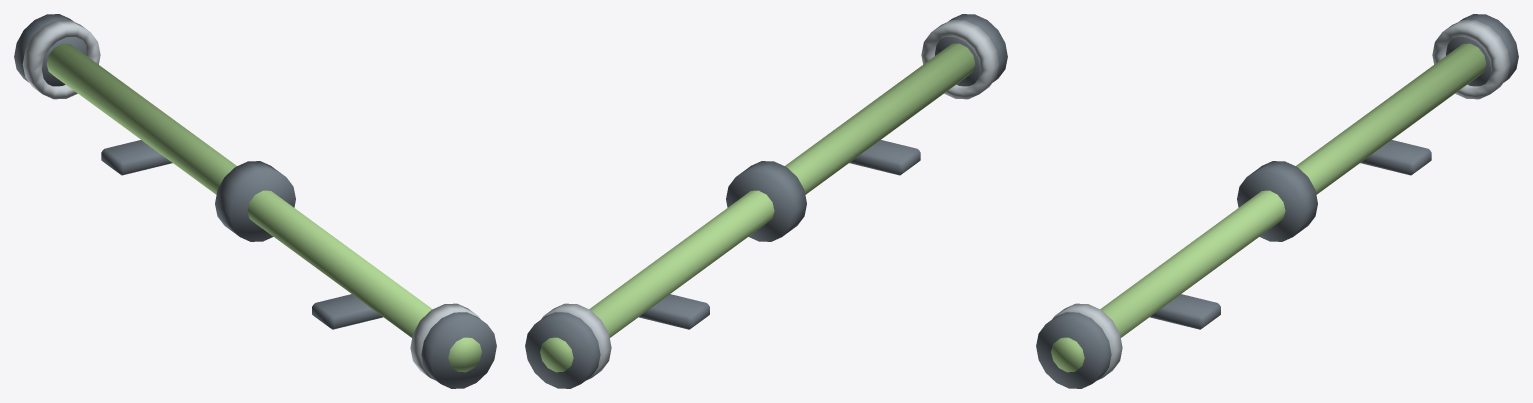
The model's file is pipe_straight_standard.glb.
3 renders of one model, left to right at view 1: azimuth 30°, elevation 25°; view 2: azimuth 150°, elevation 25°; view 3: azimuth 330°, elevation 25°, orthographic.
Visible parts, largest first — view 1: Conduit_green, Coupler_dark, Flange_steel, SupportBracket_dark; view 2: Conduit_green, Coupler_dark, Flange_steel, SupportBracket_dark; view 3: Conduit_green, Coupler_dark, Flange_steel, SupportBracket_dark.
Part boxes in pixels (box(x1,y1,x2,y2)): Conduit_green: box(46, 43, 481, 372); Coupler_dark: box(14, 14, 496, 388); Flange_steel: box(22, 20, 480, 380); SupportBracket_dark: box(101, 140, 382, 329); Conduit_green: box(540, 43, 975, 372); Coupler_dark: box(525, 14, 1007, 388); Flange_steel: box(541, 20, 999, 380); SupportBracket_dark: box(639, 140, 920, 329); Conduit_green: box(1051, 43, 1486, 372); Coupler_dark: box(1036, 14, 1518, 388); Flange_steel: box(1052, 20, 1510, 380); SupportBracket_dark: box(1150, 140, 1431, 329).
Size of the model in its own units: 0.33 by 0.2805 by 3.
